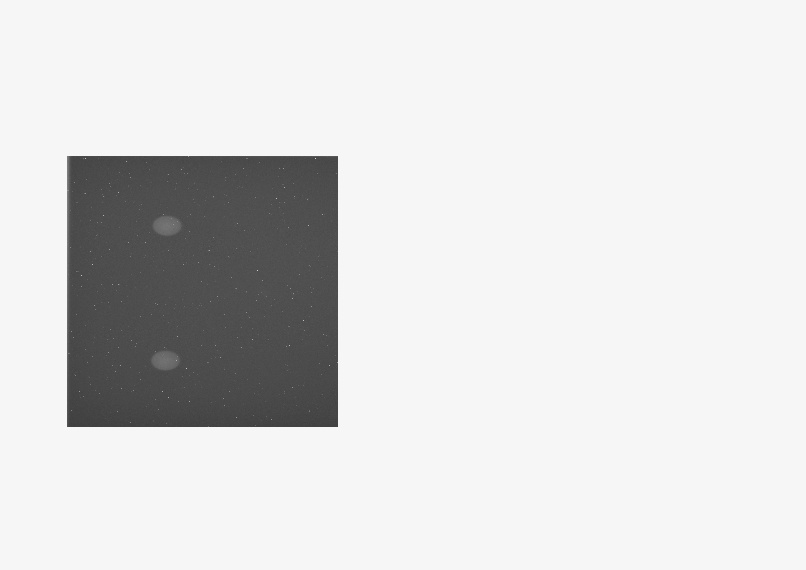bubble: (151, 349, 178, 370), (152, 215, 180, 235)
